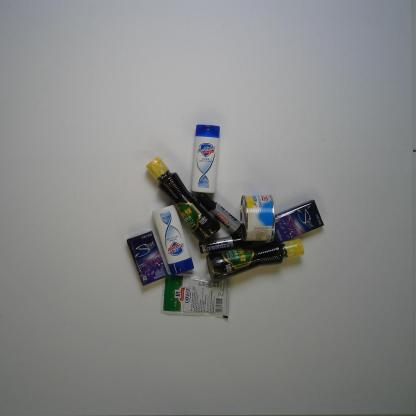Canned Food: (239, 193, 276, 243)
Gum: (127, 230, 168, 286), (274, 199, 325, 244)
Personal Hygiene: (151, 204, 194, 276), (190, 124, 221, 194)
Seasoner: (145, 156, 222, 242), (206, 237, 306, 281), (160, 273, 231, 320)
Stationery: (196, 191, 243, 237), (198, 233, 244, 255)
